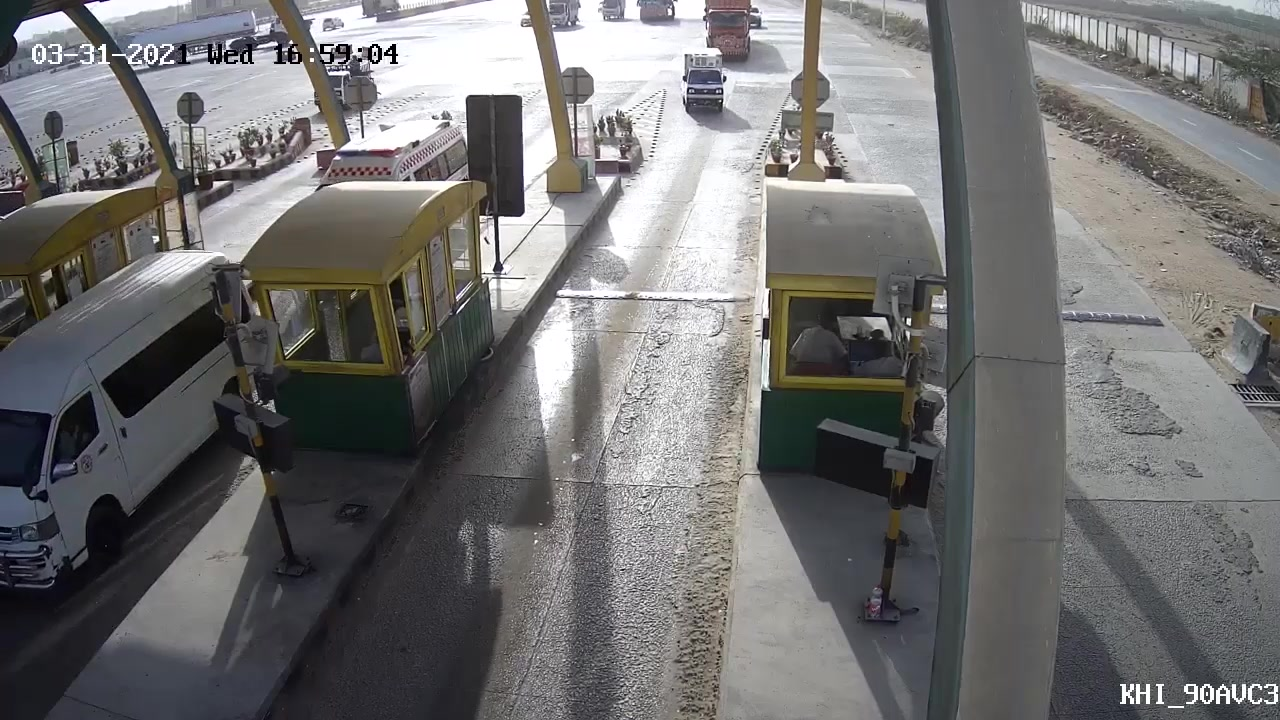F1: (679, 51, 727, 113)
